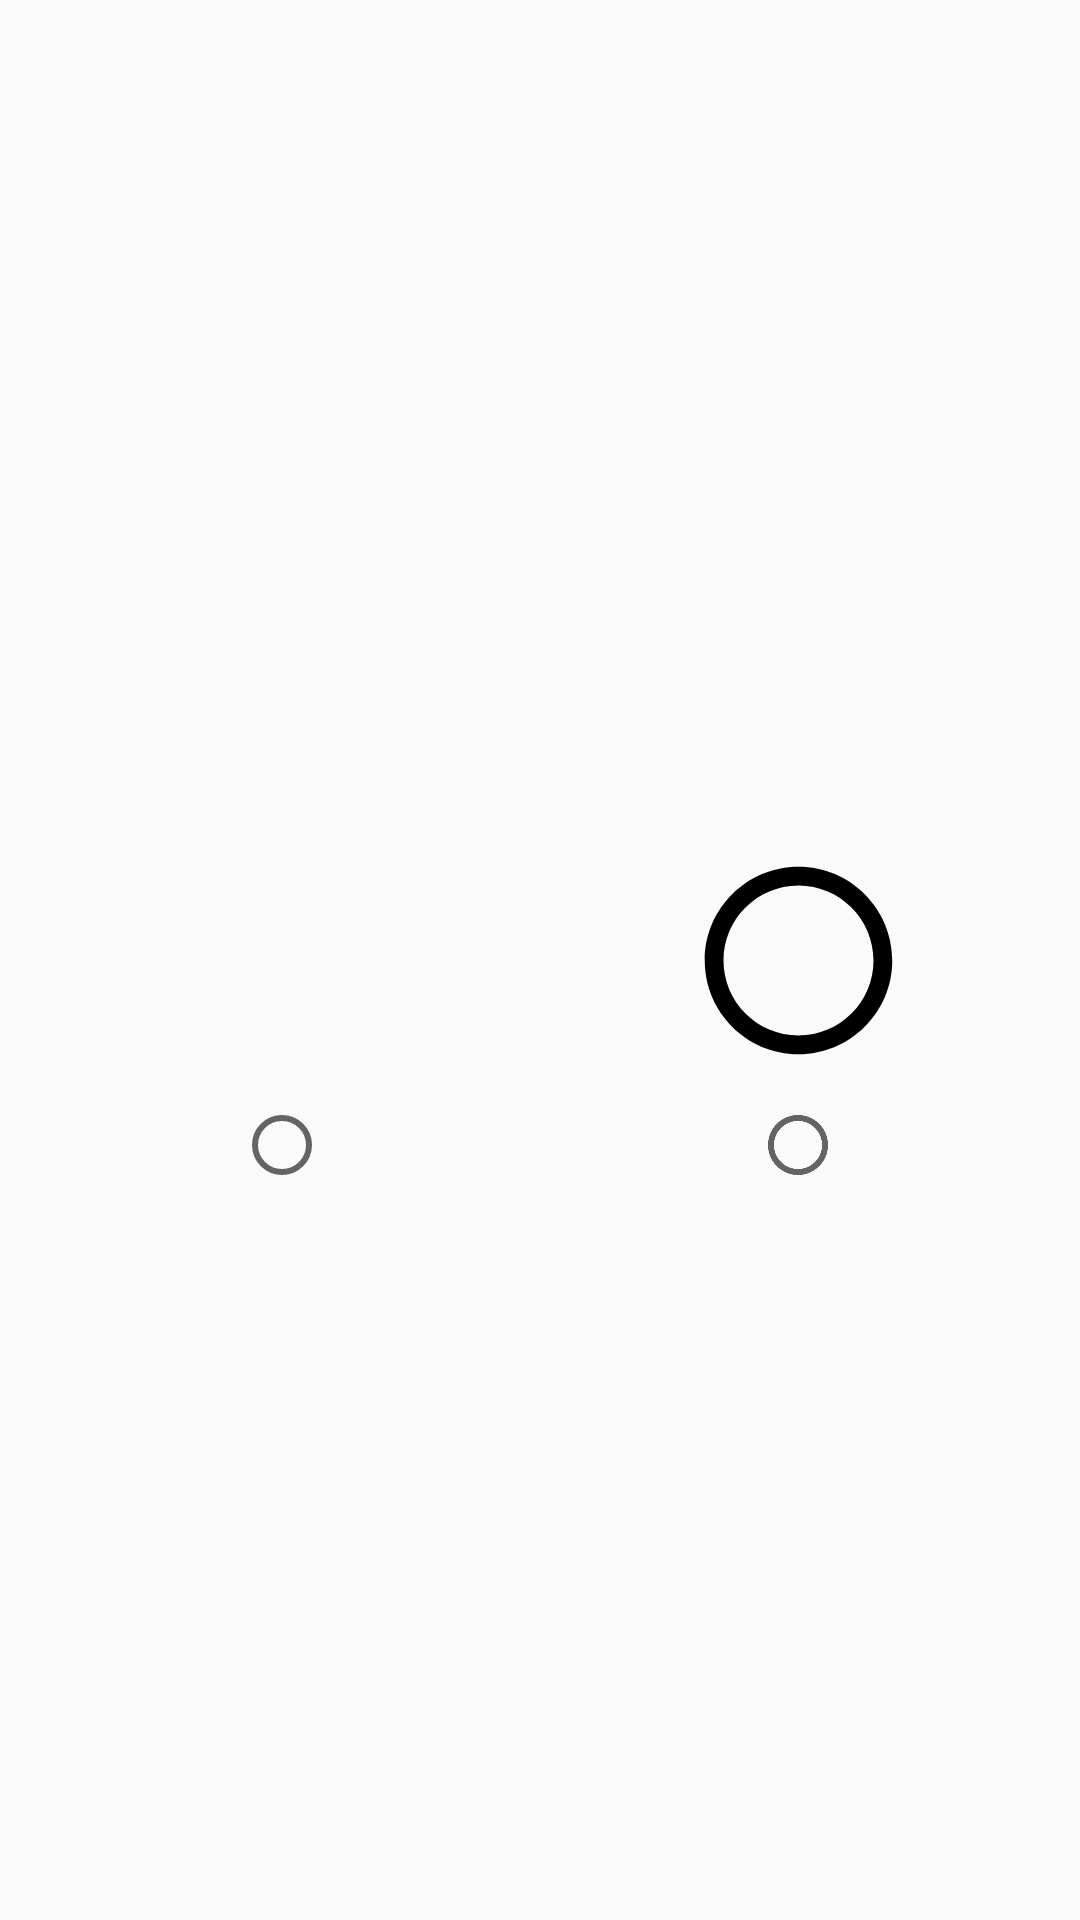

Where icons sit on this 1080×1920 app screen, as (x1, y1, x2, y2):
circle: (704, 866, 893, 1055)
